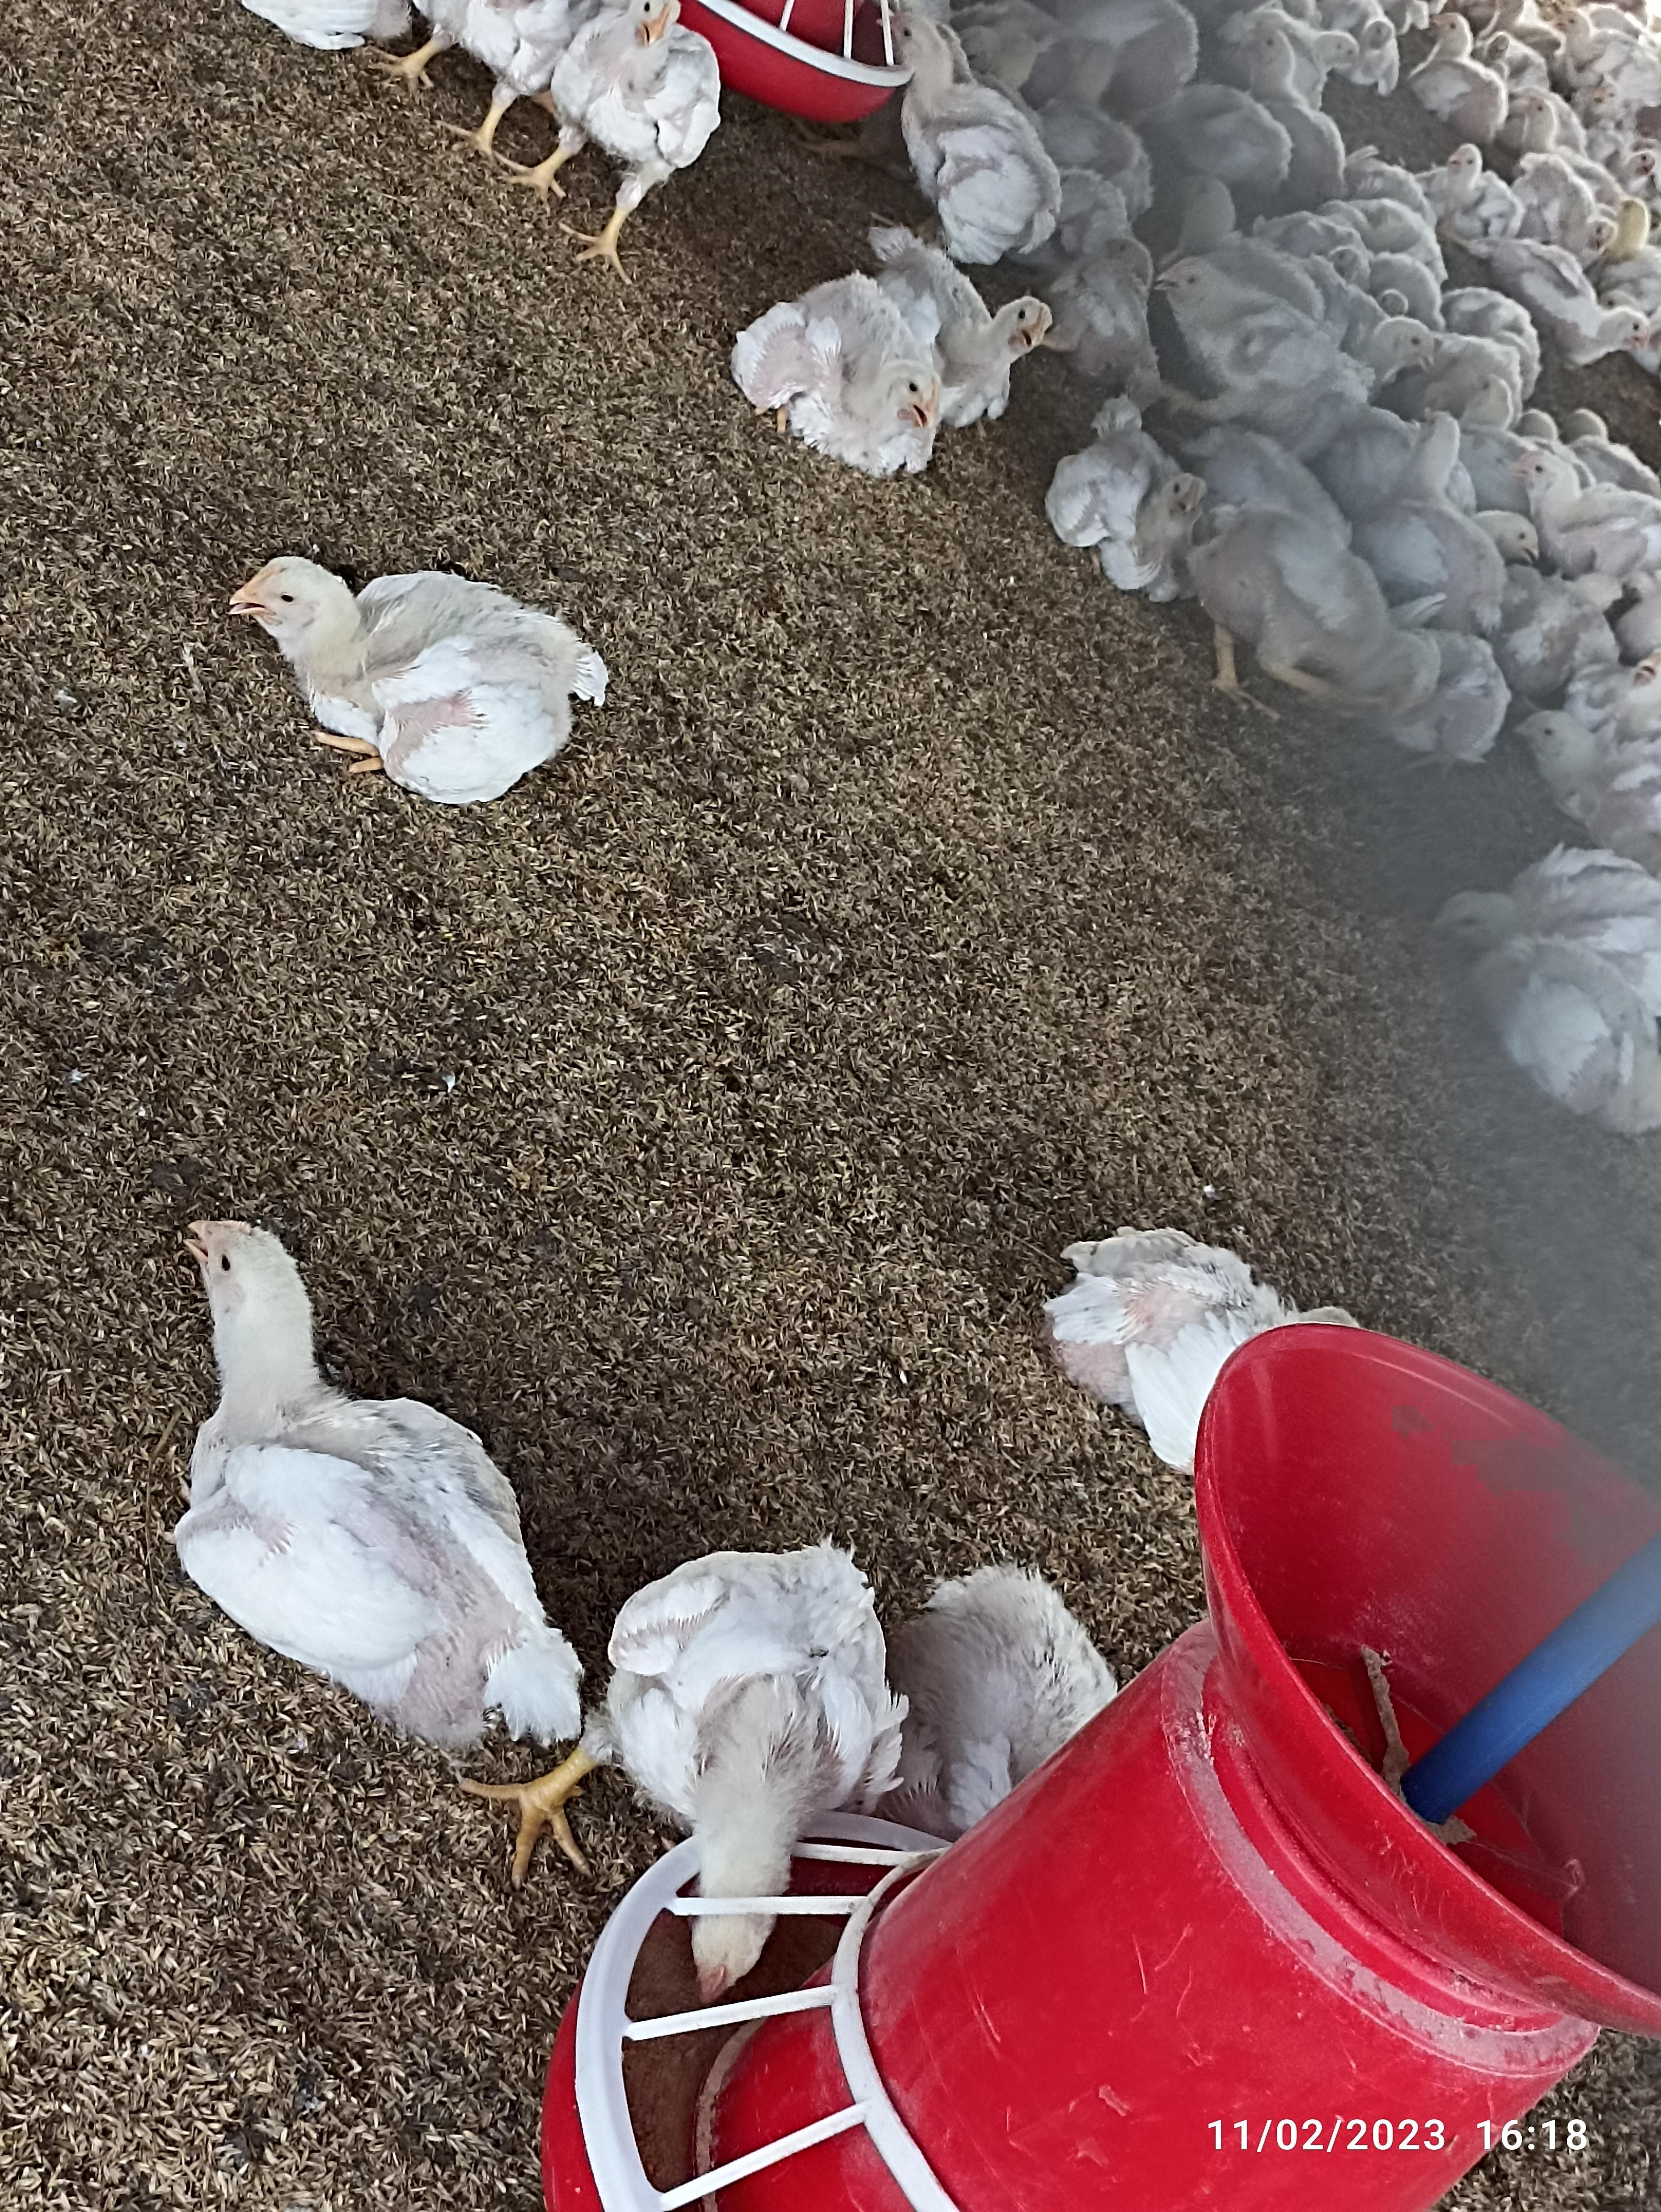Pollos: (154, 1214, 576, 1743), (225, 550, 595, 799), (612, 1528, 895, 1828), (740, 274, 946, 469)
